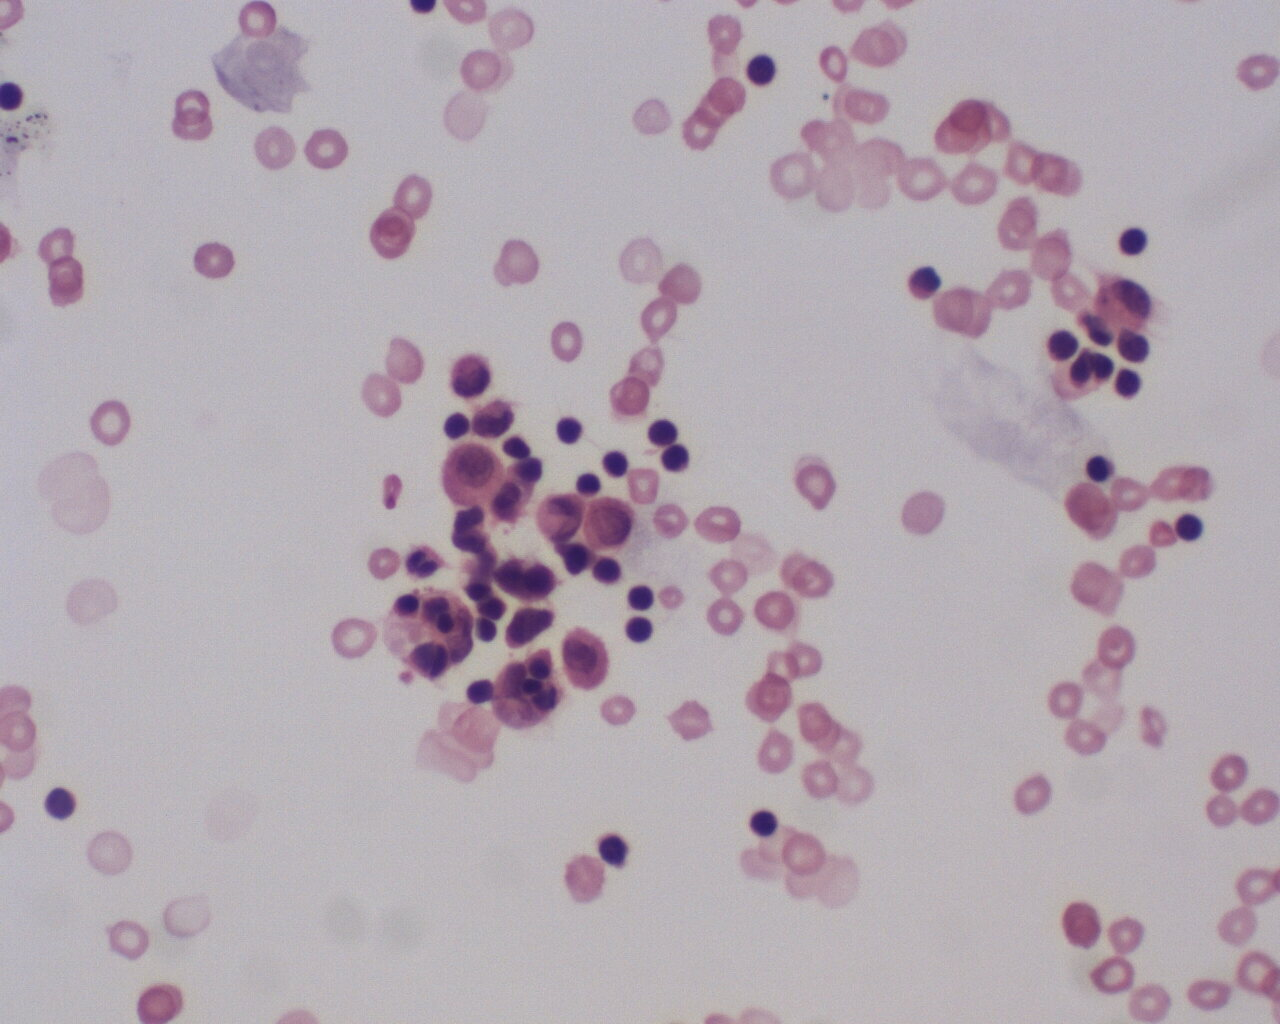ab: (562, 627, 613, 695), (580, 495, 639, 551)
lymph: (34, 778, 83, 828), (742, 50, 779, 95), (548, 411, 587, 449), (1171, 508, 1209, 546), (1114, 223, 1151, 260), (598, 444, 634, 483), (1084, 450, 1120, 487), (749, 802, 782, 843), (644, 416, 679, 449), (624, 614, 658, 645)
meso: (436, 442, 505, 511)
